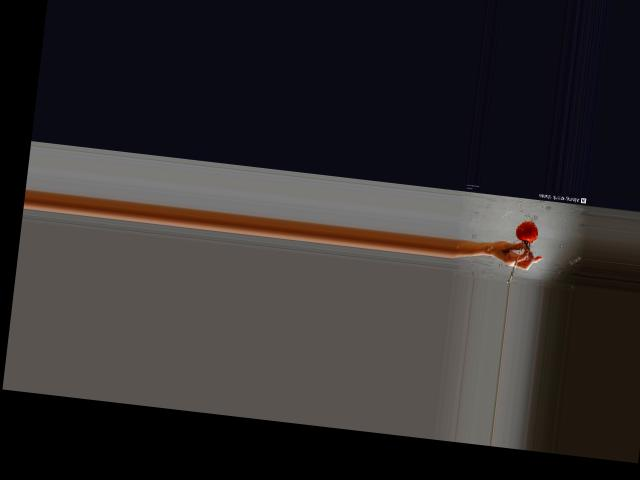tomato: (513, 219, 538, 242)
